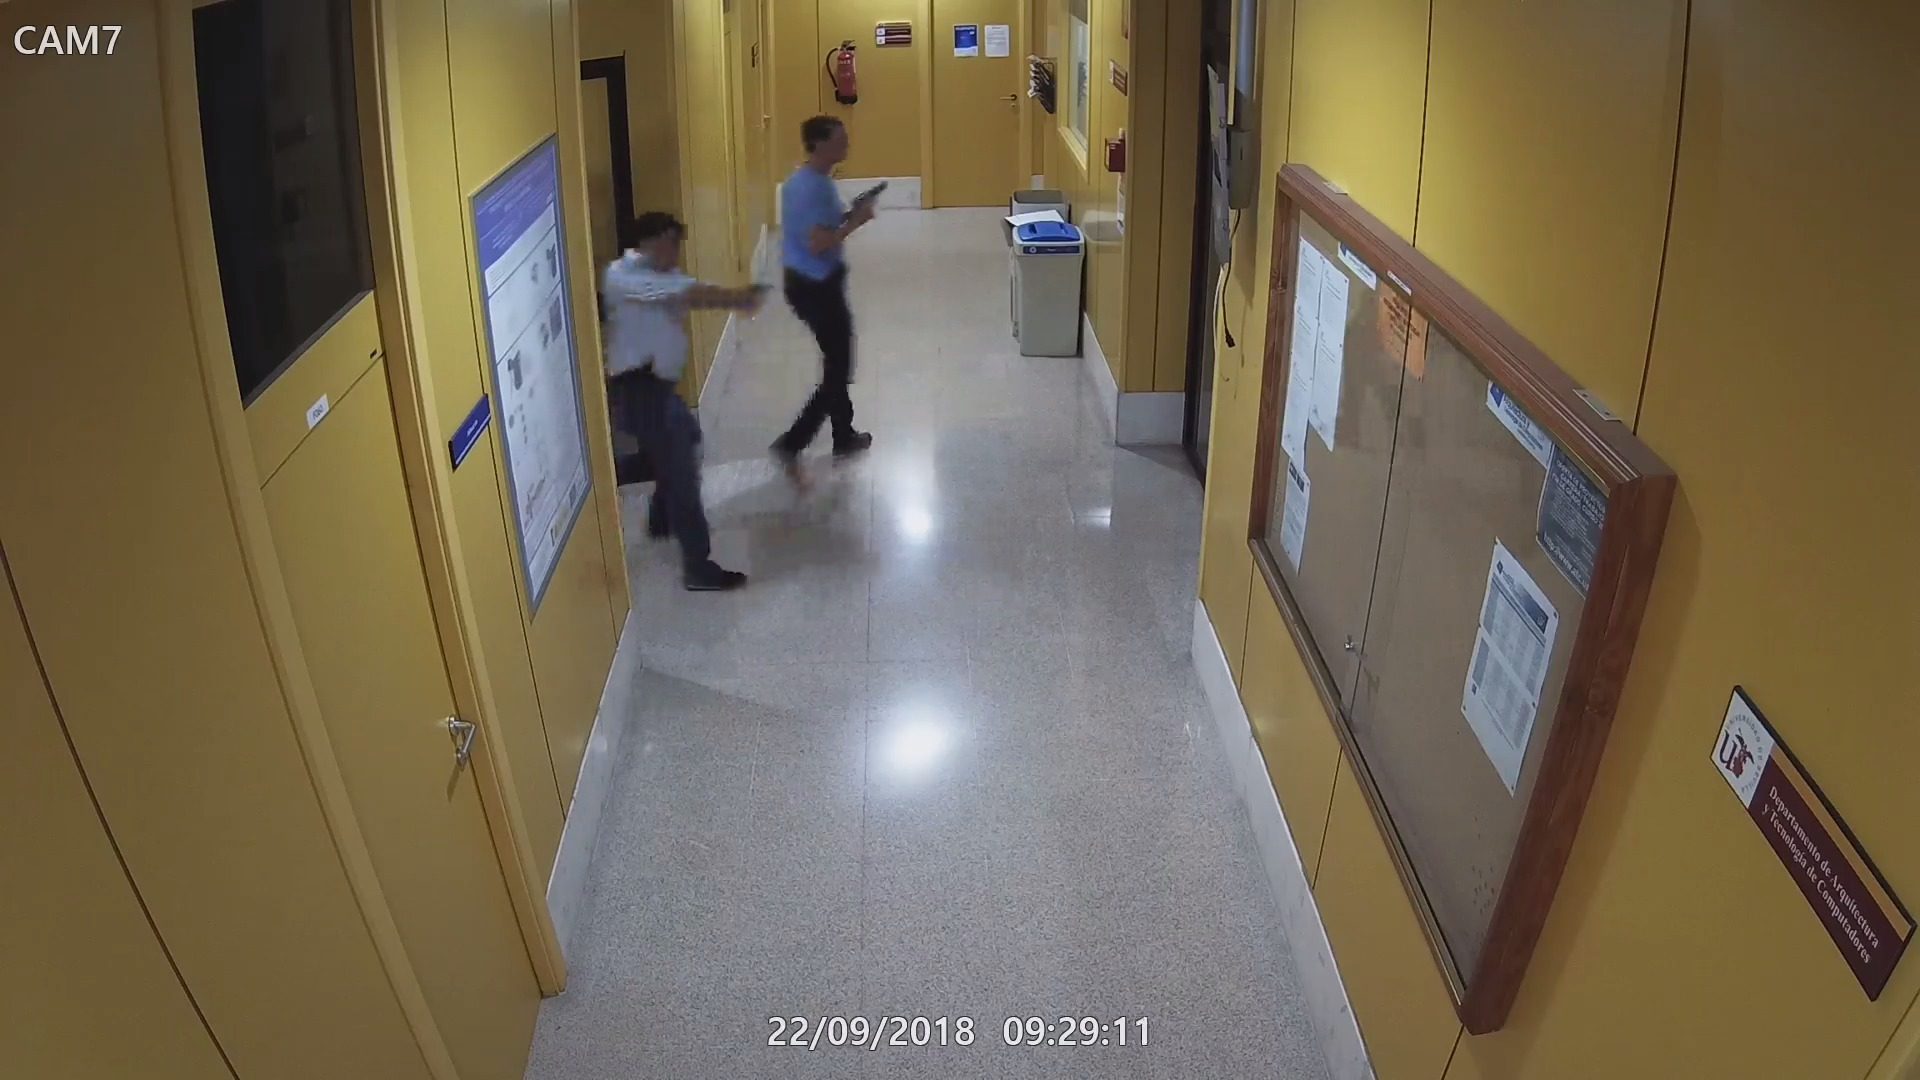Handgun: (847, 178, 891, 229), (732, 280, 771, 318)
